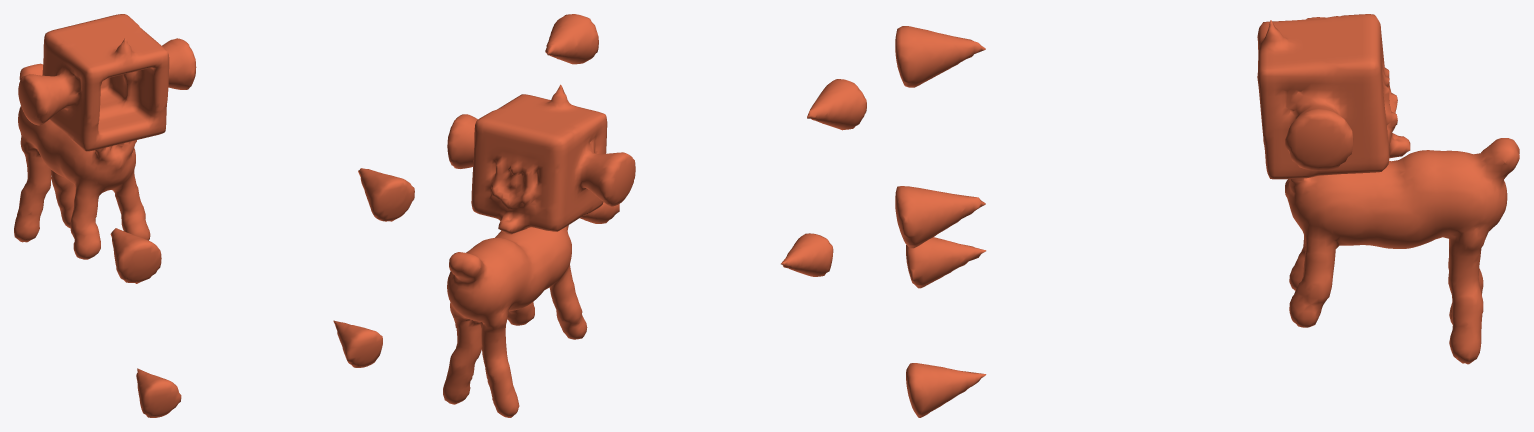
Rendered from testt.glb.
3 views of the same model, side by side, from view 1: azimuth 30°, elevation 25°; view 2: azimuth 150°, elevation 25°; view 3: azimuth 270°, elevation 25° (orthographic). The views are drawn at different scales.
Visible parts, largest first — view 1: GDExample; view 2: GDExample; view 3: GDExample.
Boxes of the visible parts, left/top/right/bottom form: GDExample: left=14, top=14, right=414, bottom=417; GDExample: left=443, top=14, right=866, bottom=417; GDExample: left=895, top=14, right=1519, bottom=417.
Size of the model in its own units: 6.03 by 4.96 by 8.53.
